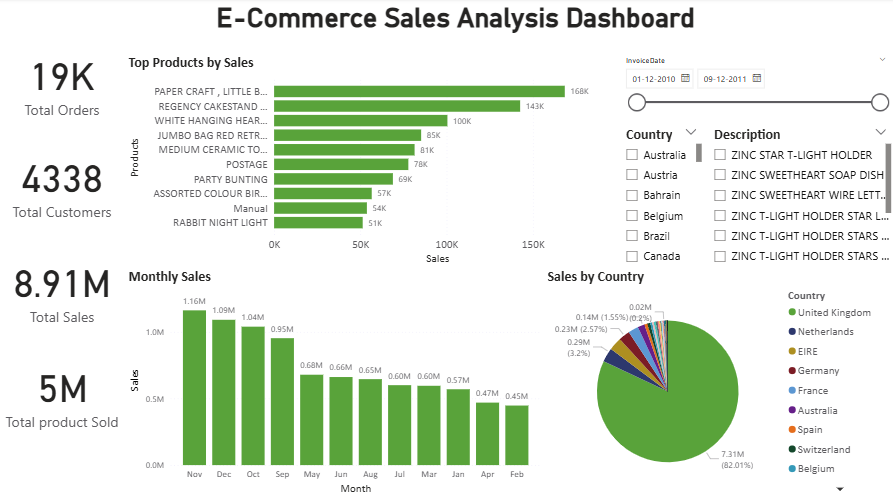

The page's visual inventory and layout, read from the dashboard file:
{"tool":"powerbi","page":{"name":"Page 1","canvas":[1280,720],"ordinal":0},"visuals":[{"type":"card","fields":{"Values":["E-Commerce cleaned data.Total Customers"]},"box":[0,195.7,180,150],"z":0},{"type":"card","fields":{"Values":["E-Commerce cleaned data.Total Orders"]},"box":[0,50,180,150],"z":1000},{"type":"card","fields":{"Values":["E-Commerce cleaned data.Total product Sold"]},"box":[0,495.7,180,150],"z":2000},{"type":"card","fields":{"Values":["E-Commerce cleaned data.Total Sales"]},"box":[0,345.7,180,150],"z":3000},{"type":"columnChart","title":"Monthly Sales","fields":{"Category":["E-Commerce cleaned data.Month"],"Y":["Sum(E-Commerce cleaned data.Sales)"]},"box":[180,391.4,598.6,328.6],"z":4000},{"type":"pieChart","title":"Sales by Country","fields":{"Category":["E-Commerce cleaned data.Country"],"Y":["Sum(E-Commerce cleaned data.Sales)"]},"box":[778.6,391.4,501.4,328.6],"z":5000},{"type":"barChart","title":"Top Products by Sales","fields":{"Category":["E-Commerce cleaned data.Description"],"Y":["Sum(E-Commerce cleaned data.Sales)"]},"box":[180,85.7,702.9,305.7],"z":6000},{"type":"slicer","fields":{"Values":["E-Commerce cleaned data.InvoiceDate"]},"box":[882.9,82.9,397.1,88.6],"z":7000},{"type":"slicer","fields":{"Values":["E-Commerce cleaned data.Country"]},"box":[882.9,182.9,125.7,205.7],"z":8000},{"type":"slicer","fields":{"Values":["E-Commerce cleaned data.Description"]},"box":[1008.6,182.9,271.4,205.7],"z":9000},{"type":"textbox","box":[305.7,5.7,702.9,57.1],"z":10000}]}

Visuals, with their boxes in screenshot pixels (x1, y1, x2, y2), scaled from the page's 1280x720 canvas onto the 893x495 screenshot:
card - E-Commerce cleaned data.Total Customers: Rect(0, 135, 126, 238)
card - E-Commerce cleaned data.Total Orders: Rect(0, 34, 126, 138)
card - E-Commerce cleaned data.Total product Sold: Rect(0, 341, 126, 444)
card - E-Commerce cleaned data.Total Sales: Rect(0, 238, 126, 341)
"Monthly Sales" columnChart: Rect(126, 269, 543, 494)
"Sales by Country" pieChart: Rect(543, 269, 892, 494)
"Top Products by Sales" barChart: Rect(126, 59, 616, 269)
slicer - E-Commerce cleaned data.InvoiceDate: Rect(616, 57, 892, 118)
slicer - E-Commerce cleaned data.Country: Rect(616, 126, 704, 267)
slicer - E-Commerce cleaned data.Description: Rect(704, 126, 892, 267)
textbox: Rect(213, 4, 704, 43)
